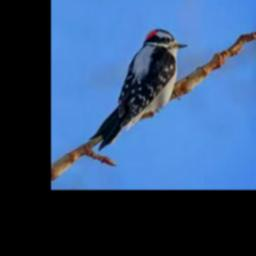Woodpecker: (90, 29, 188, 150)
